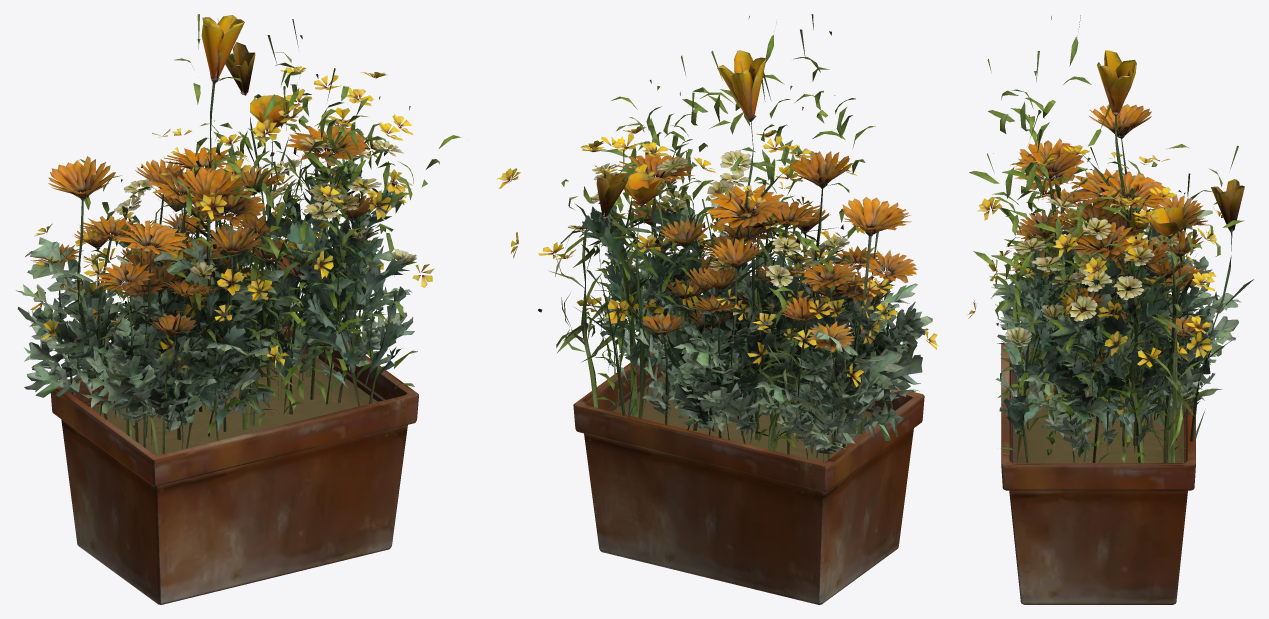
3 views of the same model, side by side, from view 1: azimuth 30°, elevation 25°; view 2: azimuth 150°, elevation 25°; view 3: azimuth 270°, elevation 25° (orthographic). The views are drawn at different scales.
Visible parts, largest first — view 1: Object_2, Object_3; view 2: Object_2, Object_3; view 3: Object_2, Object_3.
Part boxes in pixels (box(x1,y1,x2,y2)): Object_2: box(15, 14, 460, 454); Object_3: box(50, 325, 418, 604); Object_2: box(497, 14, 937, 461); Object_3: box(573, 344, 924, 604); Object_2: box(967, 15, 1253, 462); Object_3: box(1001, 342, 1195, 604).
Size of the model in its own units: 60.76 by 79.27 by 40.13.
2 materials, 2 textured.
